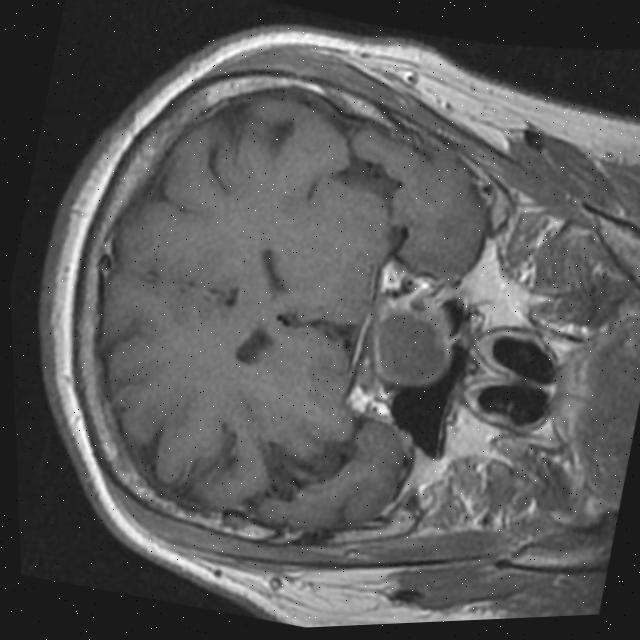Pituitary: (362, 302, 458, 395)
